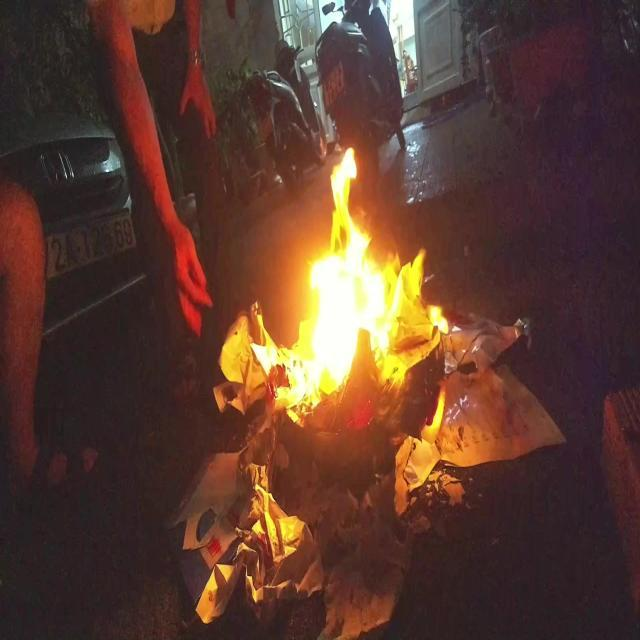Fire: (250, 146, 449, 446)
